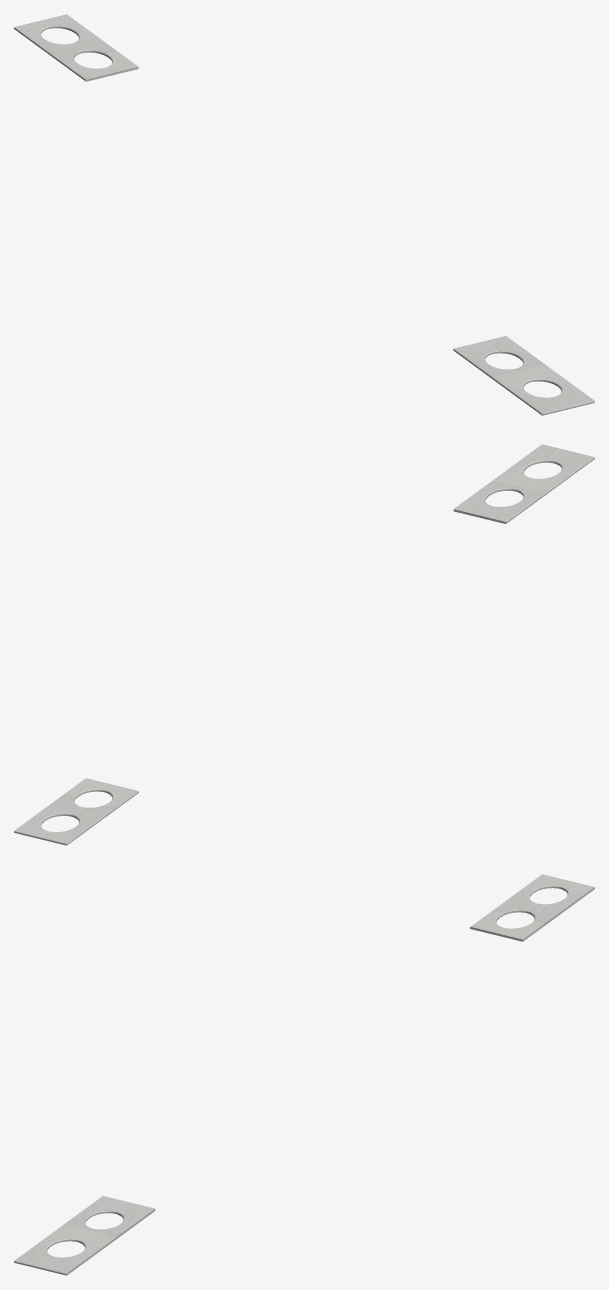
The model's file is Countertops_QuartzCalacattaKarmelo_.glb.
3 renders of one model, top to bottom at view 1: azimuth 30°, elevation 25°; view 2: azimuth 150°, elevation 25°; view 3: azimuth 330°, elevation 25°, orthographic.
Visible parts, largest first — view 1: Countertops_Quartz Calacatta Karmelo_; view 2: Countertops_Quartz Calacatta Karmelo_; view 3: Countertops_Quartz Calacatta Karmelo_.
Boxes of the visible parts, x1,y1,x2,y2 form: Countertops_Quartz Calacatta Karmelo_: [14, 14, 594, 415]; Countertops_Quartz Calacatta Karmelo_: [14, 444, 594, 845]; Countertops_Quartz Calacatta Karmelo_: [14, 874, 594, 1275].
Size of the model in its own units: 0.9958 by 0.04 by 17.25.
Materials: 1 (1 with a texture image).
